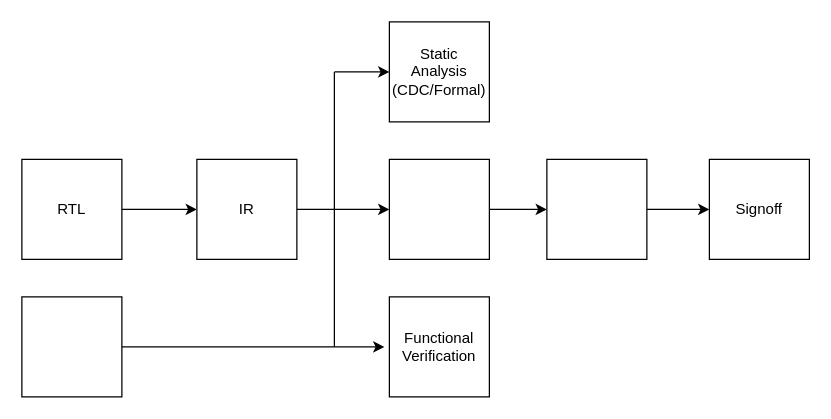
The diagram is 831 pixels wide and 419 high, and some of its shapes have lost their labels. The centre of each missing label's shape, as x and y in pixels:
"PnR" goes at point (596, 208).
"Synthesis" goes at point (438, 208).
"TB" goes at point (71, 346).
